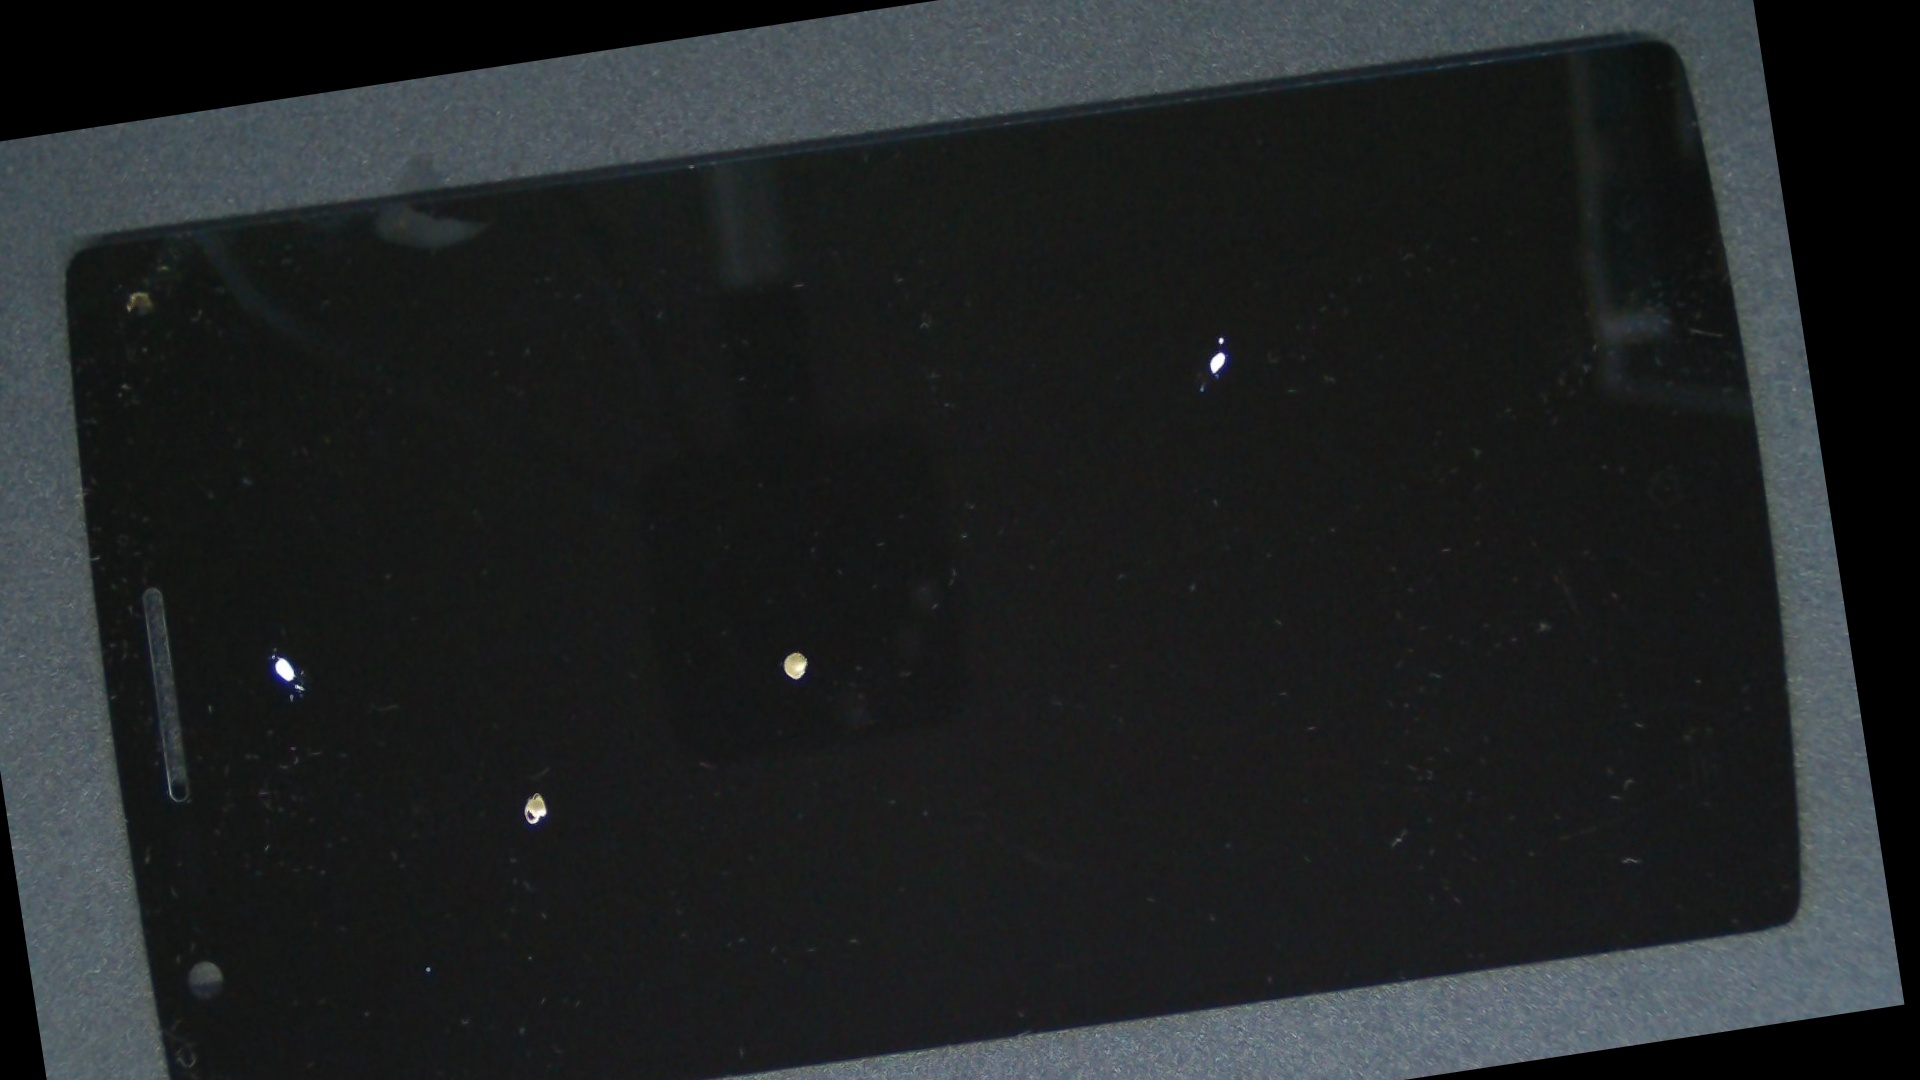oil: (563, 65, 1818, 616), (351, 284, 1236, 1019), (223, 393, 847, 1080), (91, 359, 455, 938)
